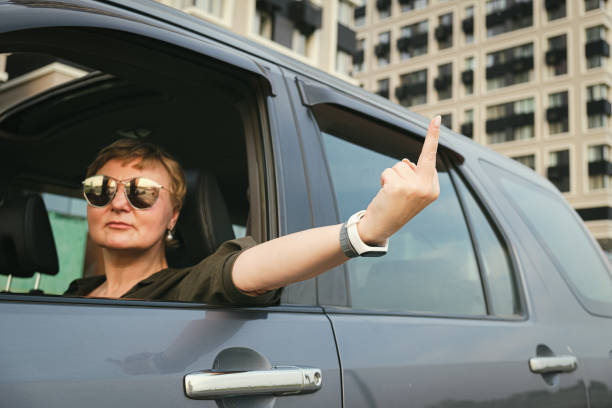insulting_gesture: (364, 114, 444, 240)
